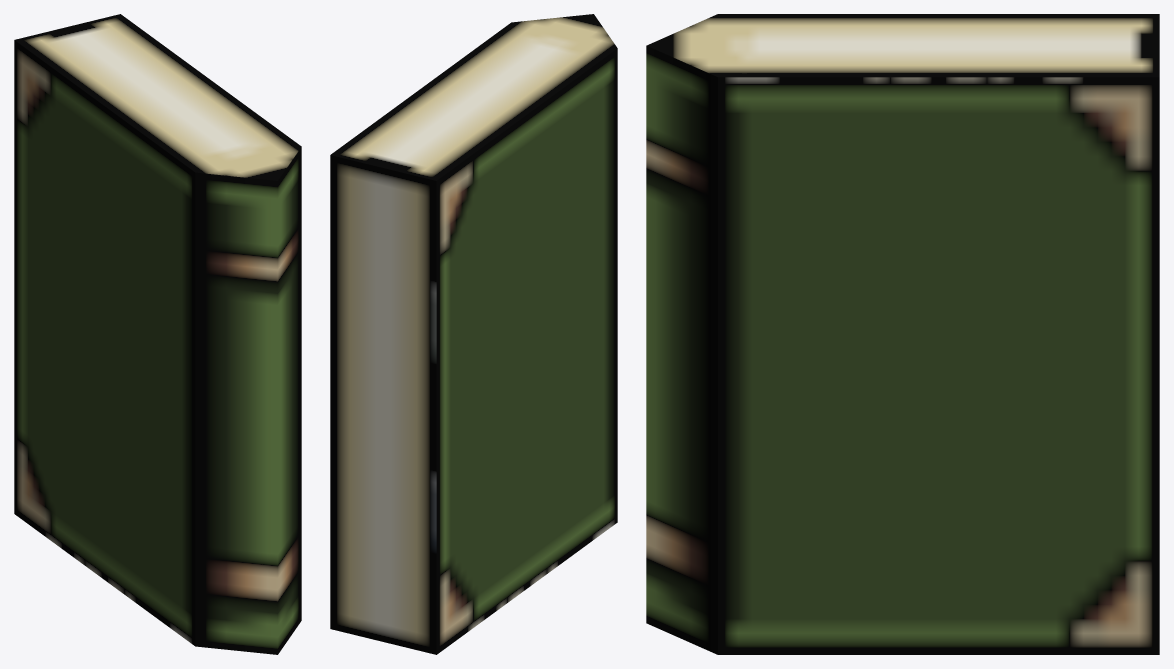
The model's file is deco_cathedral_book_C.FBX.
The picture shows the model from 3 angles, left to right: view 1: azimuth 30°, elevation 25°; view 2: azimuth 150°, elevation 25°; view 3: azimuth 270°, elevation 25°; orthographic projection. The views are drawn at different scales.
Parts seen in each view (by area): view 1: deco_cathedral_book_C; view 2: deco_cathedral_book_C; view 3: deco_cathedral_book_C.
Part boxes in pixels (x1,y1,x2,y2): deco_cathedral_book_C: [14, 14, 301, 654]; deco_cathedral_book_C: [330, 14, 617, 654]; deco_cathedral_book_C: [646, 14, 1159, 654].
Bounding box in the file's own units: 0.2349 × 1 × 0.8048.
1 material, 1 textured.
